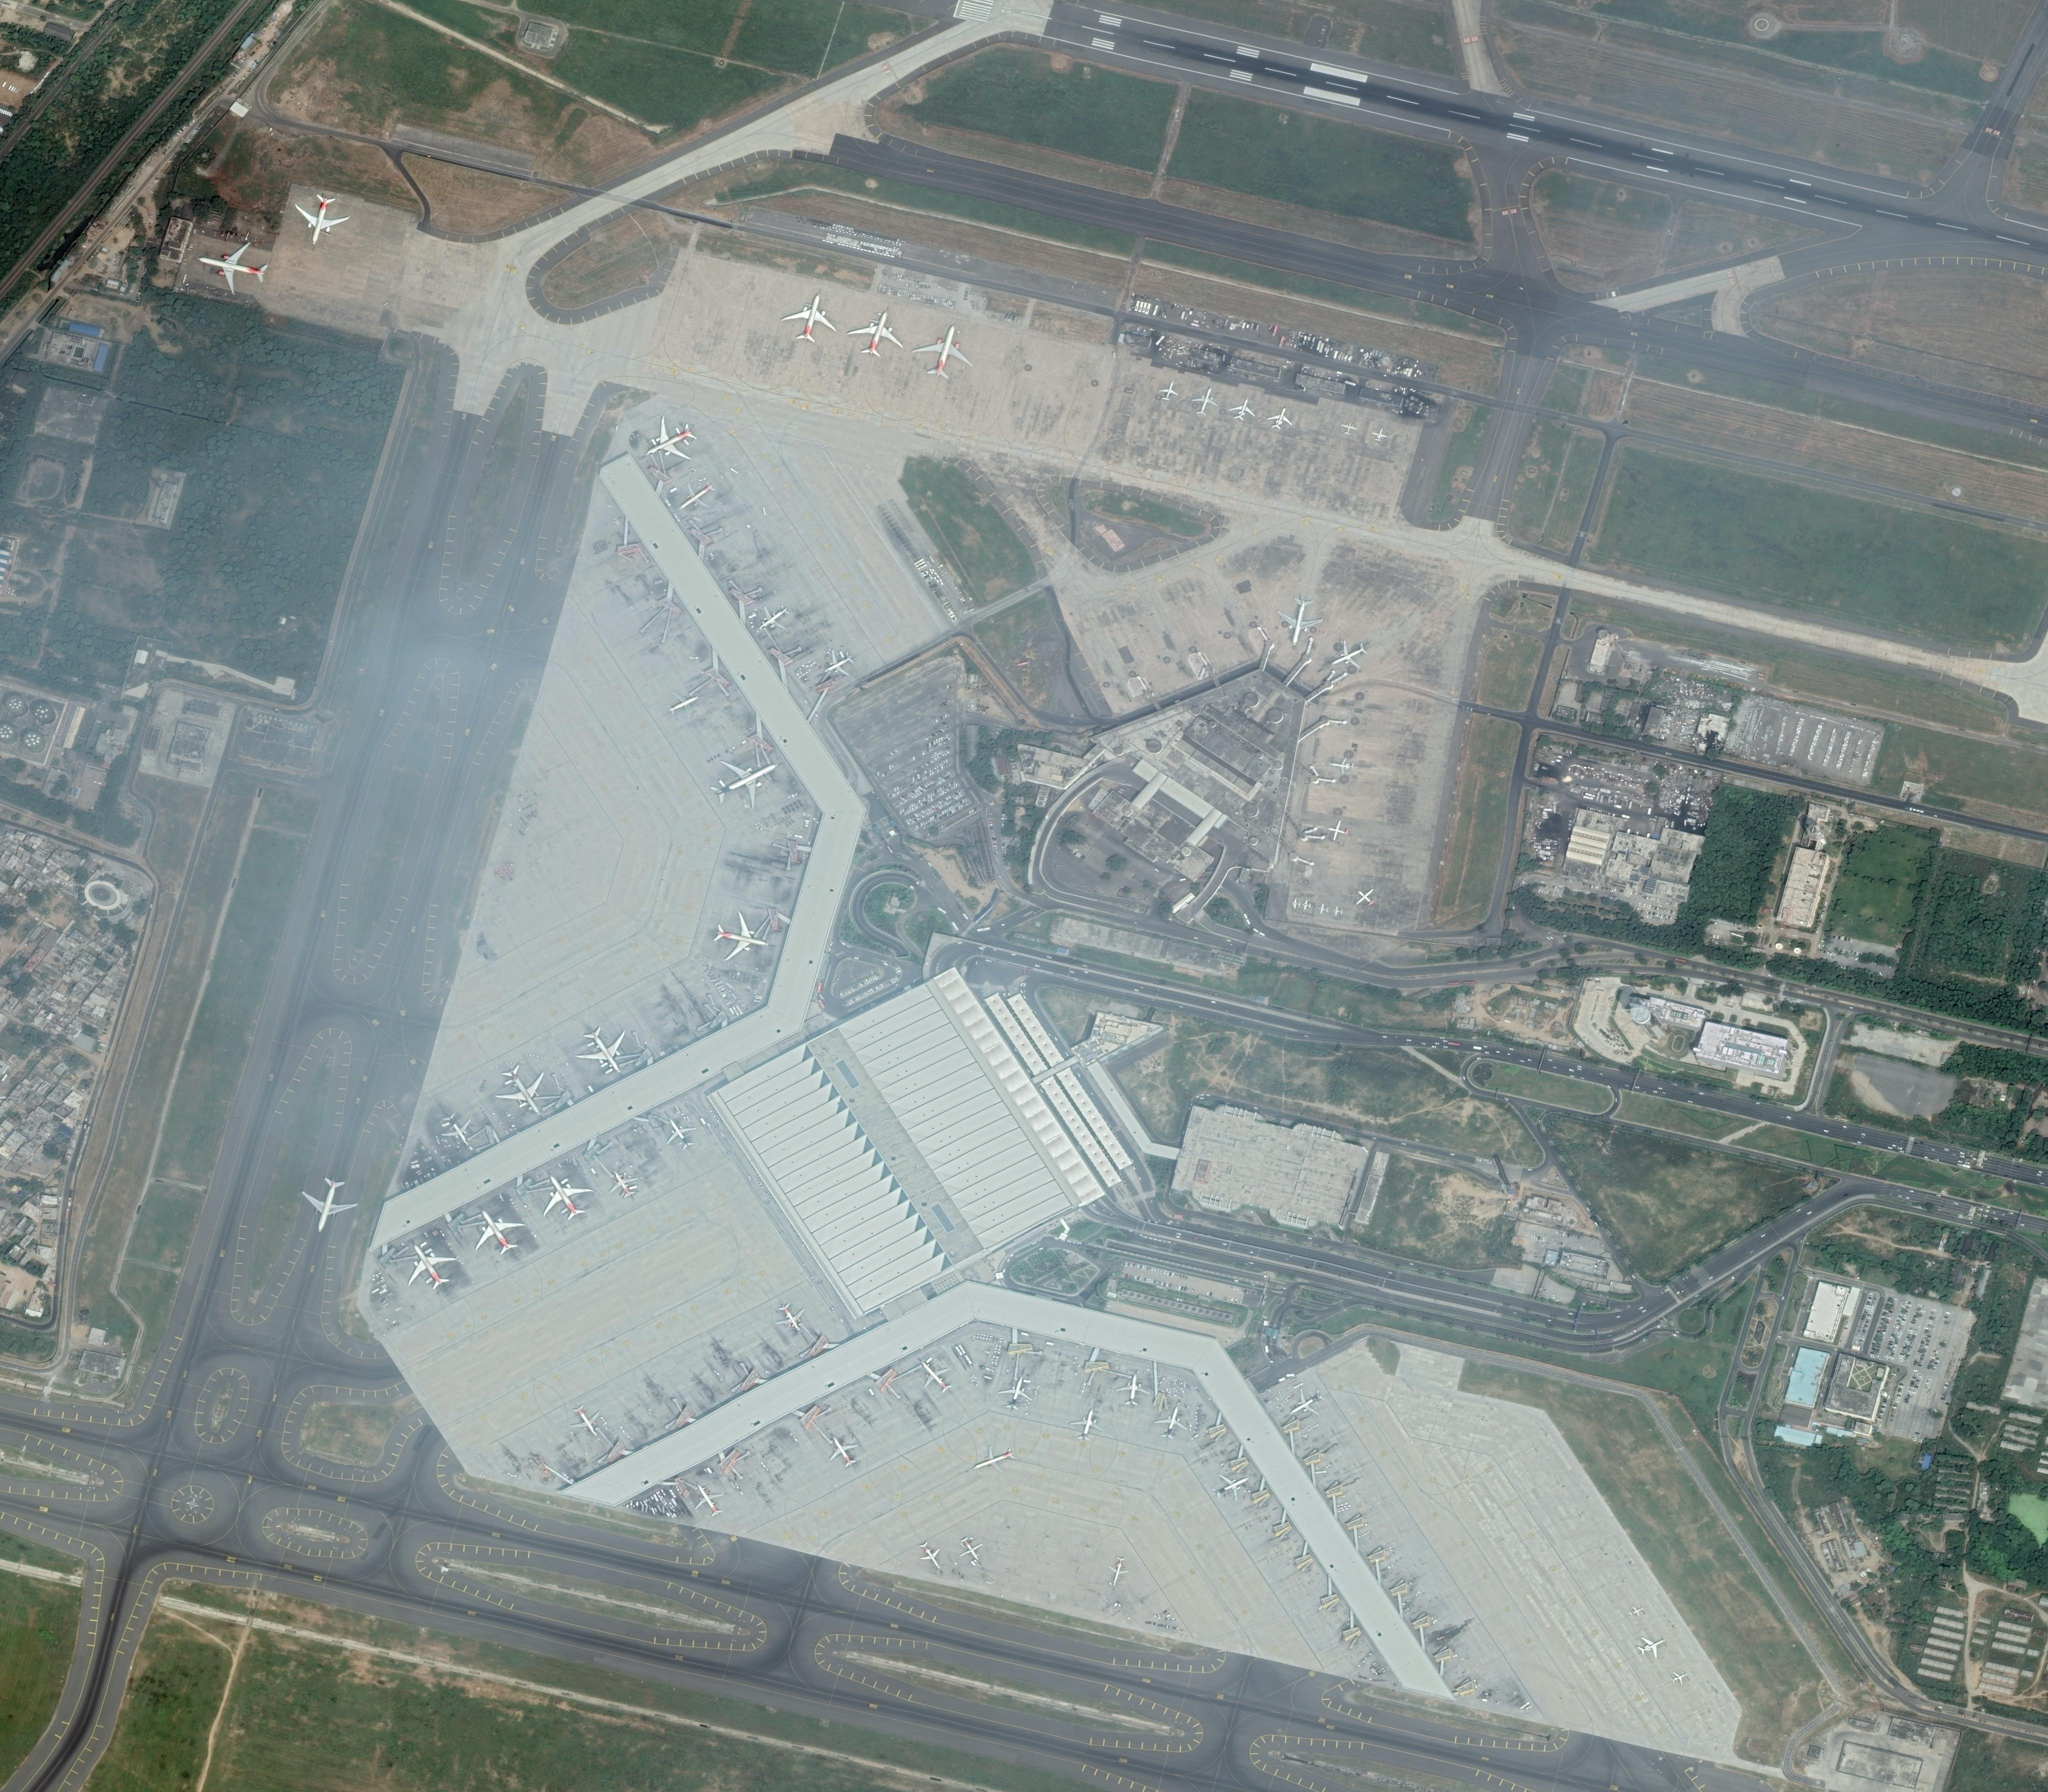plane: (698, 740, 794, 820), (190, 230, 275, 303), (482, 1050, 561, 1128), (630, 404, 712, 477), (568, 1012, 644, 1085), (392, 1228, 467, 1301), (529, 1160, 604, 1233), (460, 1196, 536, 1268), (839, 300, 913, 371), (906, 319, 980, 388), (294, 1170, 366, 1240), (705, 902, 775, 973), (777, 286, 845, 352), (287, 188, 354, 253), (1273, 590, 1325, 651), (911, 1348, 965, 1404), (1202, 1461, 1261, 1512), (817, 1425, 869, 1477), (683, 1473, 733, 1526), (669, 474, 724, 519), (1320, 632, 1376, 677), (432, 1104, 482, 1153), (765, 1294, 817, 1341), (749, 596, 799, 643), (561, 1397, 611, 1444), (967, 1438, 1022, 1480), (1149, 1398, 1196, 1447), (657, 1109, 704, 1156), (1280, 1381, 1332, 1423), (994, 1371, 1040, 1418), (657, 684, 705, 728), (1066, 1404, 1109, 1447), (817, 643, 862, 684), (603, 1163, 646, 1205), (911, 1533, 953, 1576), (953, 1531, 993, 1571), (1630, 1628, 1674, 1665), (1115, 1371, 1153, 1411), (1188, 383, 1224, 420), (1263, 401, 1297, 434), (1224, 395, 1261, 427), (1104, 1553, 1134, 1590), (1350, 883, 1383, 914), (1324, 817, 1351, 845), (1155, 380, 1184, 406), (1329, 752, 1358, 777), (1667, 1667, 1693, 1689), (1337, 420, 1360, 439), (1369, 427, 1390, 446), (1625, 1604, 1646, 1621), (1331, 904, 1346, 920), (1317, 902, 1331, 916), (1290, 897, 1301, 911), (1301, 899, 1311, 913)
